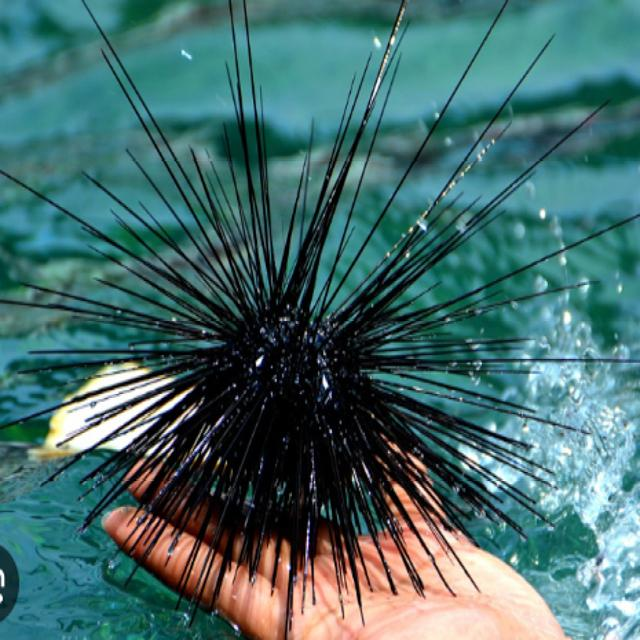Urchin: (8, 4, 610, 604)
